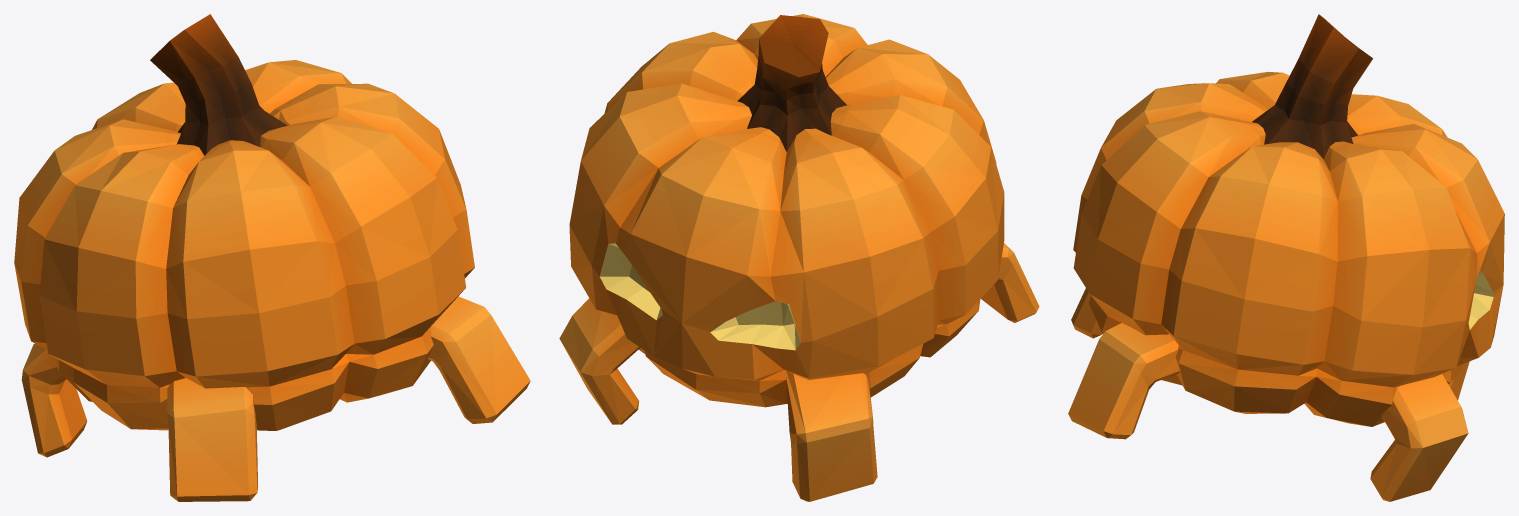
File: CharSkyKid_Horn_PumpkinCrab.glb
3 renders of one model, left to right at view 1: azimuth 30°, elevation 25°; view 2: azimuth 150°, elevation 25°; view 3: azimuth 270°, elevation 25°, orthographic. The views are drawn at different scales.
Parts seen in each view (by area): view 1: CharSkyKid_Horn_PumpkinCrab; view 2: CharSkyKid_Horn_PumpkinCrab; view 3: CharSkyKid_Horn_PumpkinCrab.
Boxes of the visible parts, x1,y1,x2,y2 form: CharSkyKid_Horn_PumpkinCrab: (14, 14, 530, 501); CharSkyKid_Horn_PumpkinCrab: (559, 14, 1039, 501); CharSkyKid_Horn_PumpkinCrab: (1068, 14, 1504, 501).
Size of the model in its own units: 1.75 by 1.9 by 1.77.
Materials: 1 (1 with a texture image).
